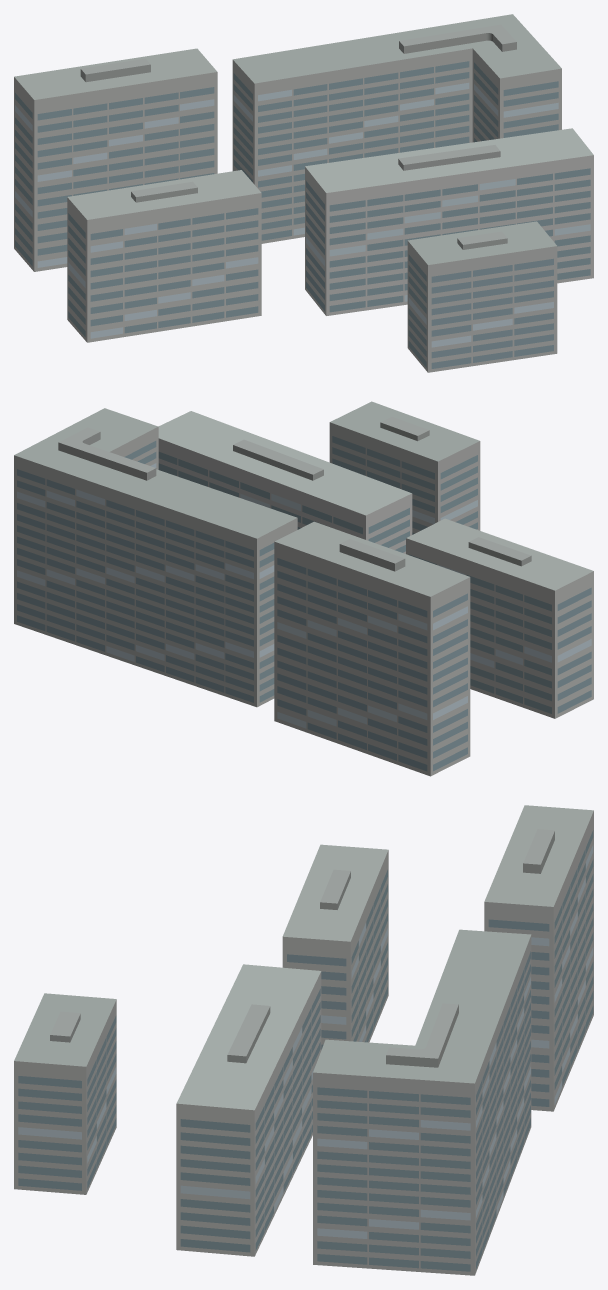
File: apt-a15805105.glb
3 renders of one model, top to bottom at view 1: azimuth 30°, elevation 25°; view 2: azimuth 150°, elevation 25°; view 3: azimuth 270°, elevation 25°, orthographic. The views are drawn at different scales.
Visible parts, largest first — view 1: apt-a15805105; view 2: apt-a15805105; view 3: apt-a15805105.
Boxes of the visible parts, bbox=[...] form: apt-a15805105: bbox=[14, 14, 593, 372]; apt-a15805105: bbox=[14, 401, 593, 776]; apt-a15805105: bbox=[14, 805, 593, 1275].
Size of the model in its own units: 127 by 44.62 by 110.
